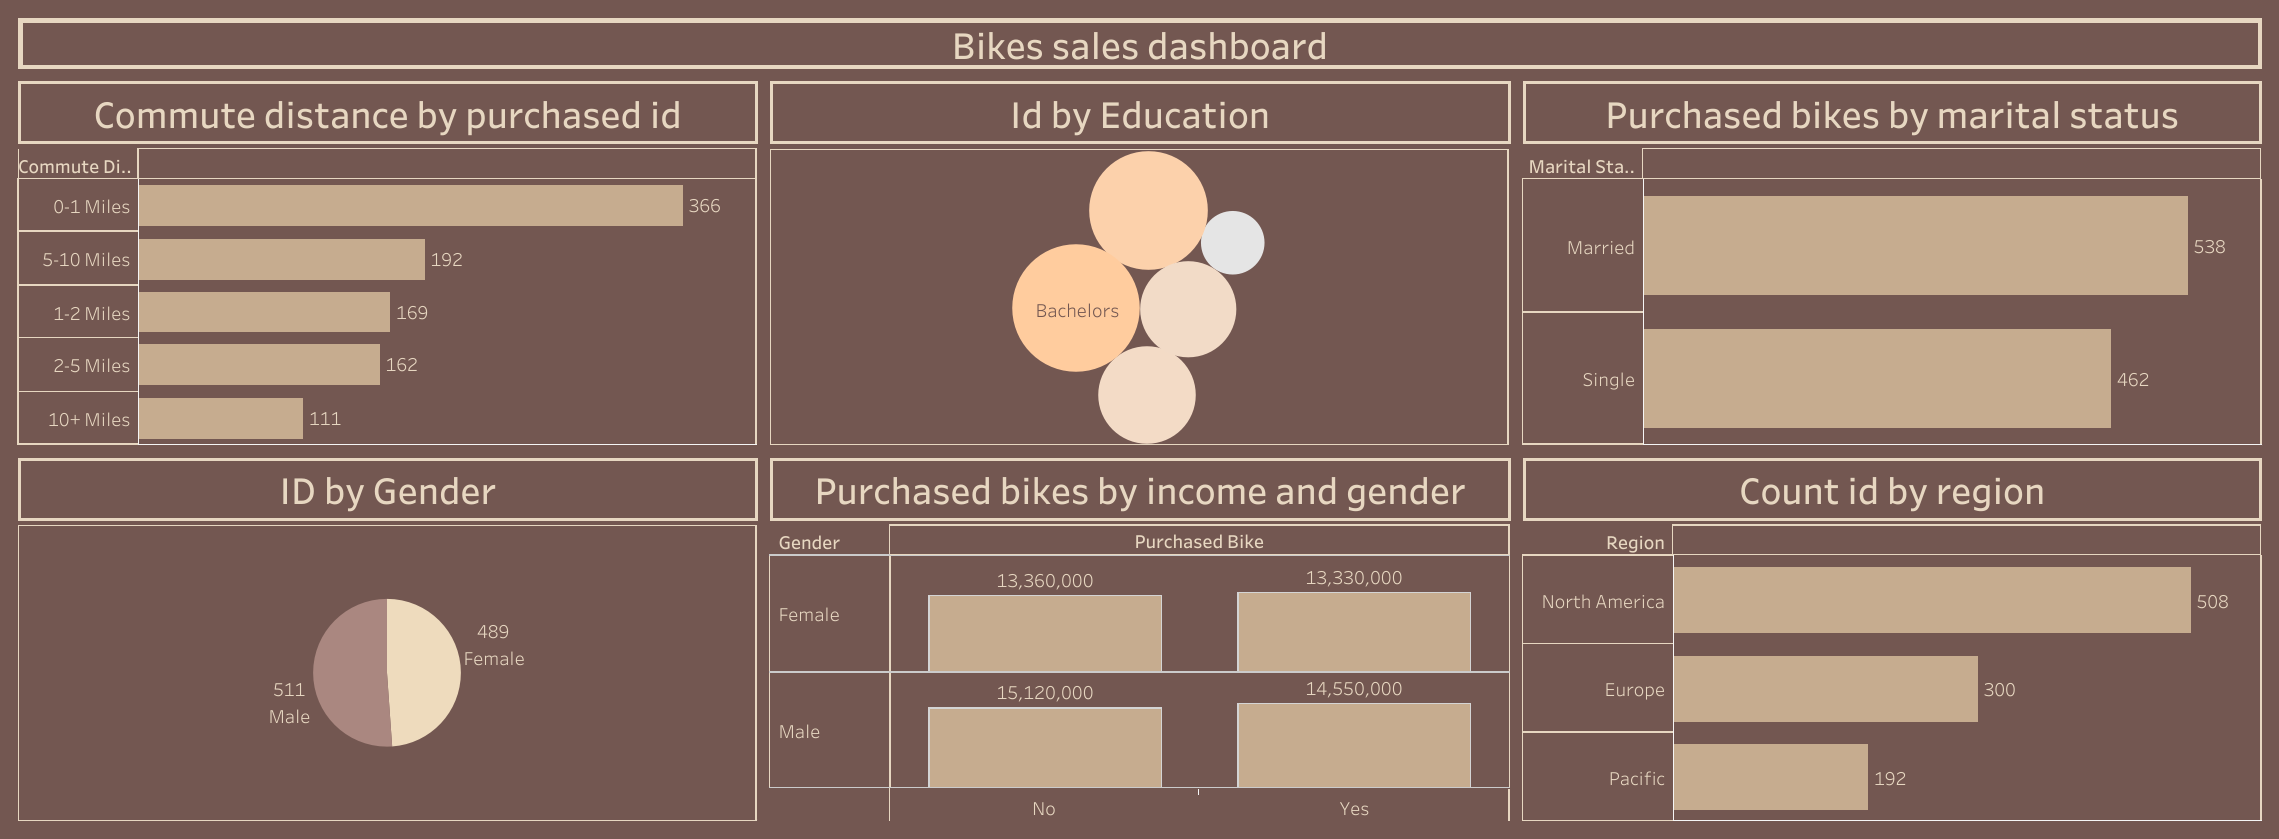

What the dashboard file says about the page in this screenshot:
{"tool":"tableau","page":{"name":"bikes sales dashboard","canvas":[1000,1000],"units":"permille","ordinal":0},"visuals":[{"type":"title","box":[5,9.9,990,72]},{"type":"worksheet","title":"Commute distance by id","mark":"Bar","rows":["Commute Distance"],"cols":["Purchased Bike"],"box":[5,81.9,330,454.1]},{"type":"worksheet","title":"Id by Education","mark":"Circle","box":[335,81.9,330,454.1]},{"type":"worksheet","title":"Purchased bikes by marital status","mark":"Automatic","rows":["Marital Status"],"cols":["Purchased Bike"],"box":[665,81.9,330,454.1]},{"type":"worksheet","title":"Id by Gender","mark":"Pie","box":[5,536,330,454.1]},{"type":"worksheet","title":"Purchased bikes by income and gender","mark":"Automatic","rows":["Gender","Income"],"cols":["Purchased Bike"],"box":[335,536,330,454.1]},{"type":"worksheet","title":"COunt id by region","mark":"Automatic","rows":["Region"],"cols":["ID"],"box":[665,536,330,454.1]}]}

Visuals, with their boxes on the dashboard's canvas, which has no fixed pixel size, in thousandths of its width and height (x1, y1, x2, y2). These are canvas units, not pixel positions in the 2279x839 screenshot, which may show the page scaled, cropped or inside an application window:
title: {"x1": 5, "y1": 10, "x2": 995, "y2": 82}
"Commute distance by id" worksheet (Bar marks): {"x1": 5, "y1": 82, "x2": 335, "y2": 536}
"Id by Education" worksheet (Circle marks): {"x1": 335, "y1": 82, "x2": 665, "y2": 536}
"Purchased bikes by marital status" worksheet: {"x1": 665, "y1": 82, "x2": 995, "y2": 536}
"Id by Gender" worksheet (Pie marks): {"x1": 5, "y1": 536, "x2": 335, "y2": 990}
"Purchased bikes by income and gender" worksheet: {"x1": 335, "y1": 536, "x2": 665, "y2": 990}
"COunt id by region" worksheet: {"x1": 665, "y1": 536, "x2": 995, "y2": 990}
